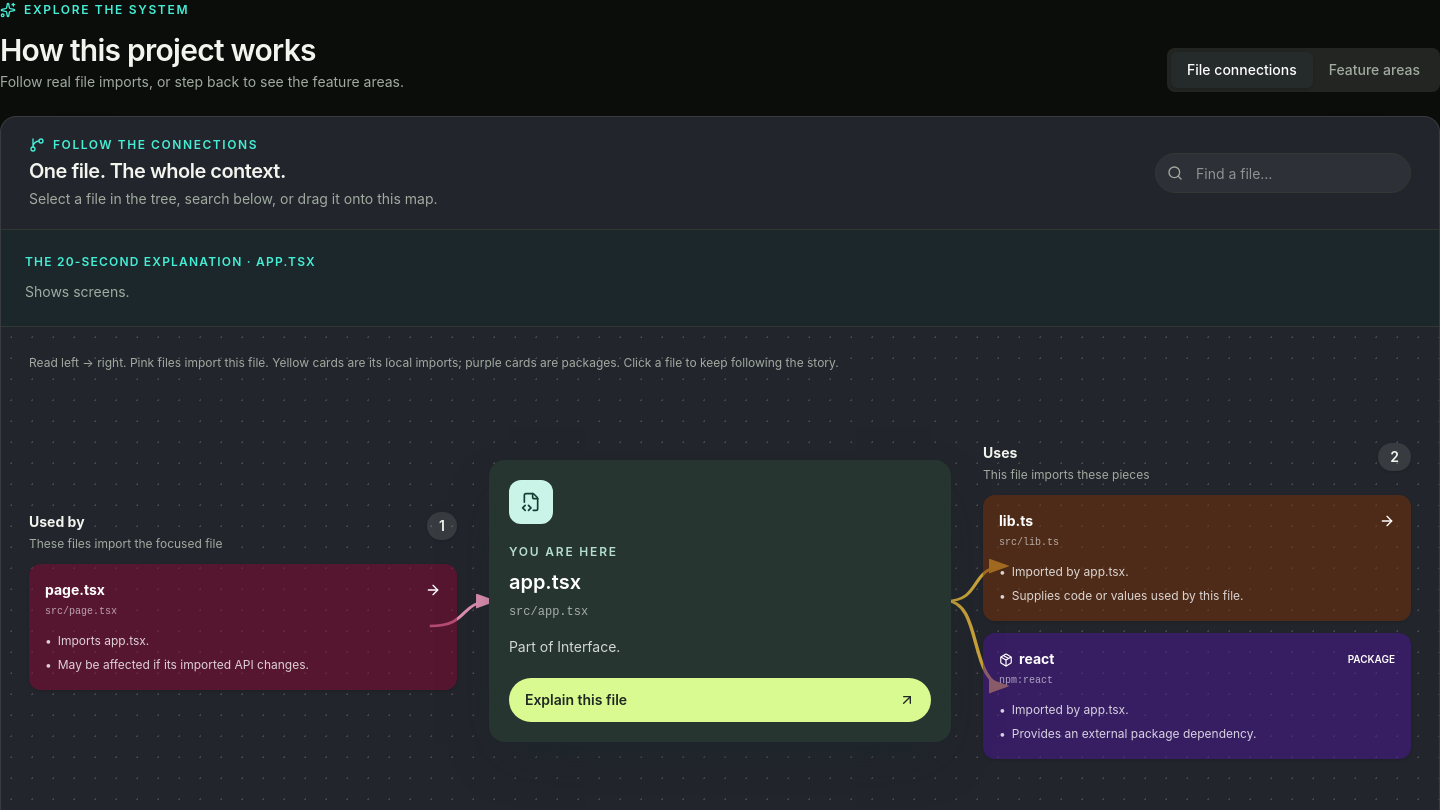
Test: guided repository views › reveals selected feature areas without a full graph canvas
Click the tab "Feature areas": (1374, 70) [1313,52,1436,88]
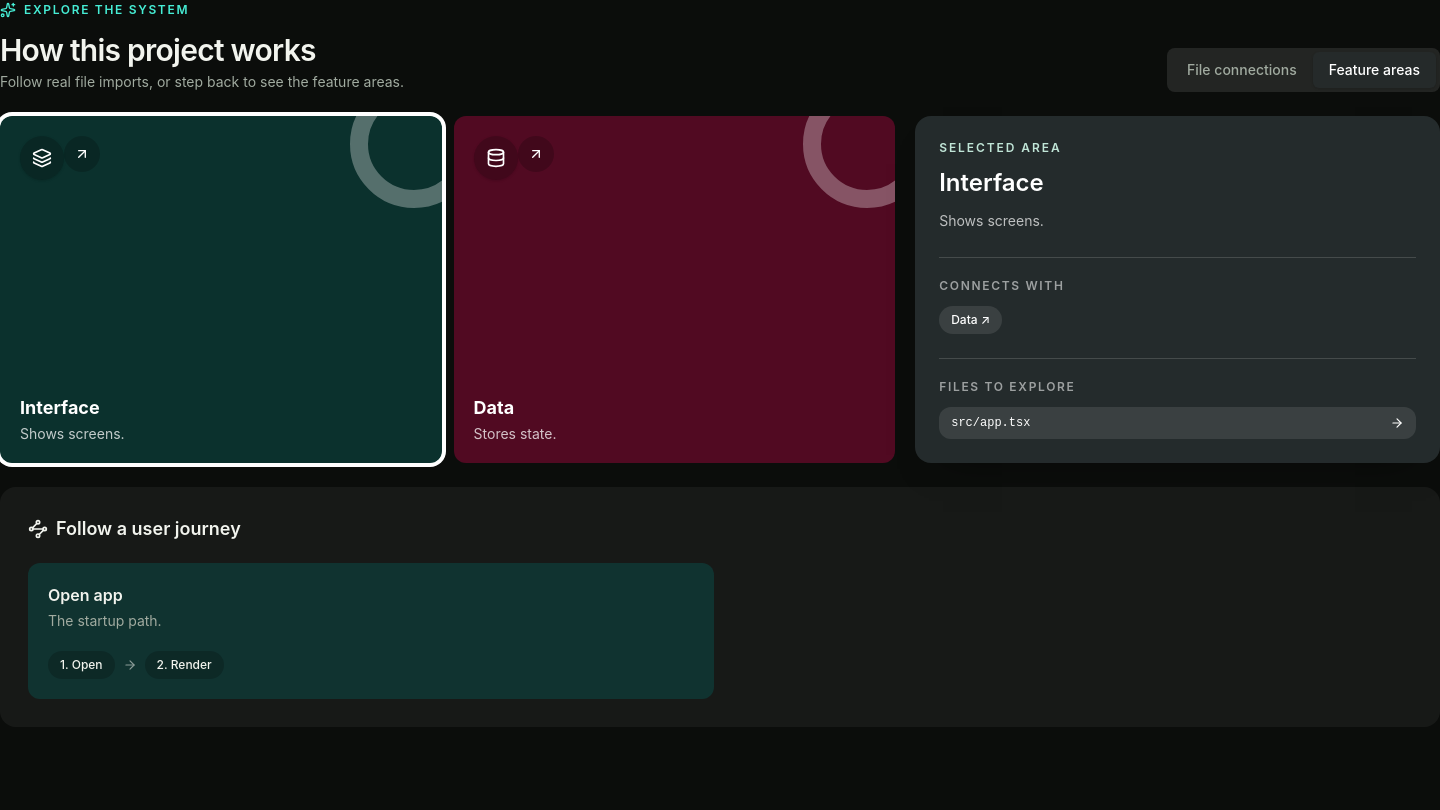
Click the button named "Show Data details": (674, 289) [454,116,895,463]
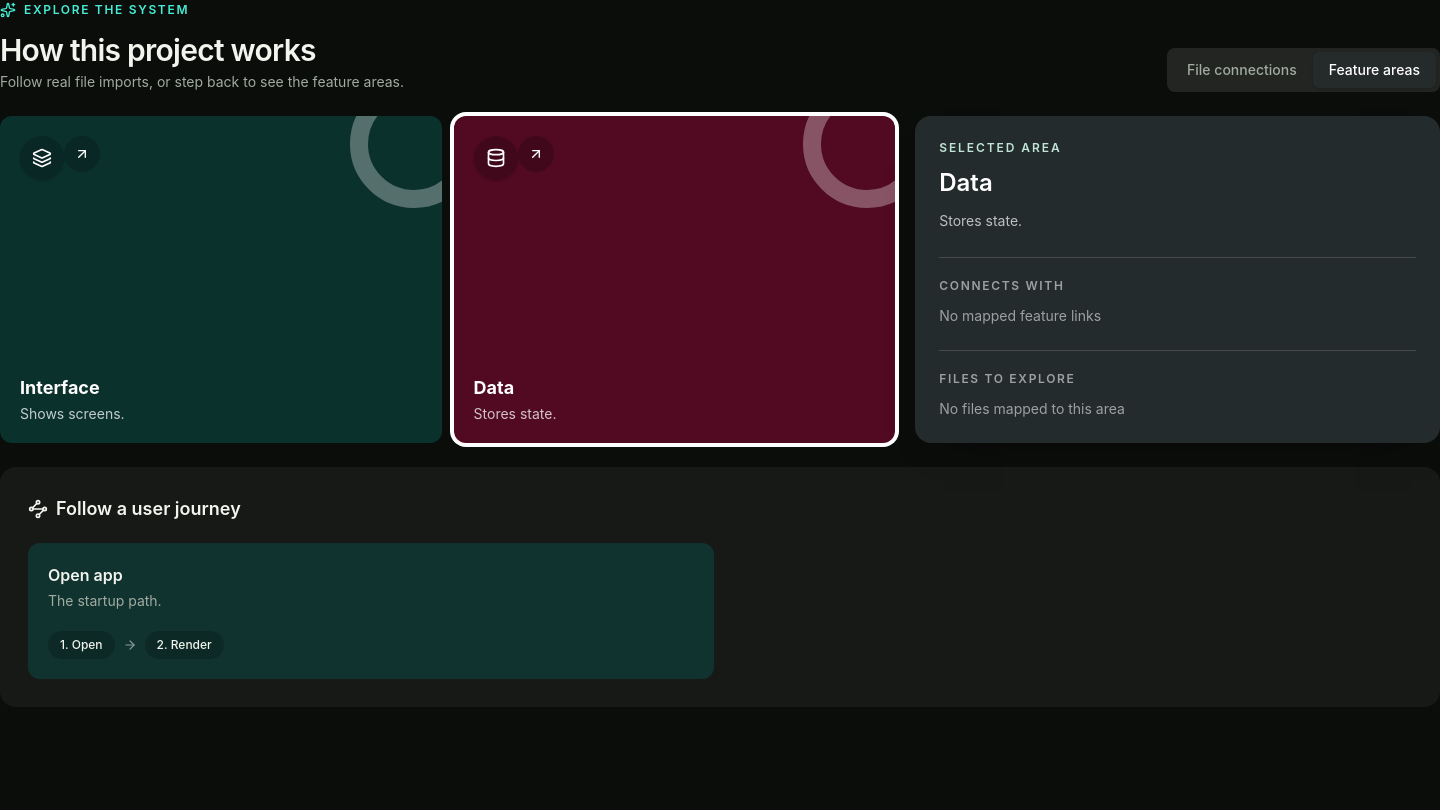
Check: the heading "One file. The whole context." is not shown
Check: the text "Stores state." below "Selected area" is shown, box [939,212,1022,229]
